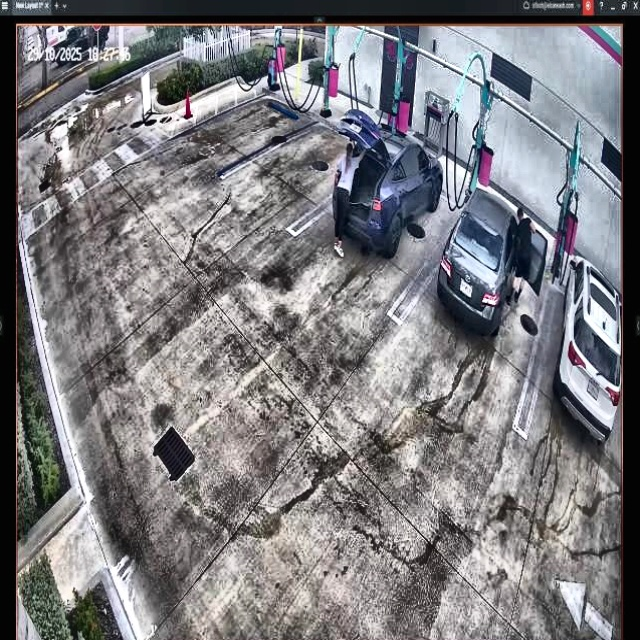Car: (336, 108, 443, 251), (440, 187, 541, 334)
